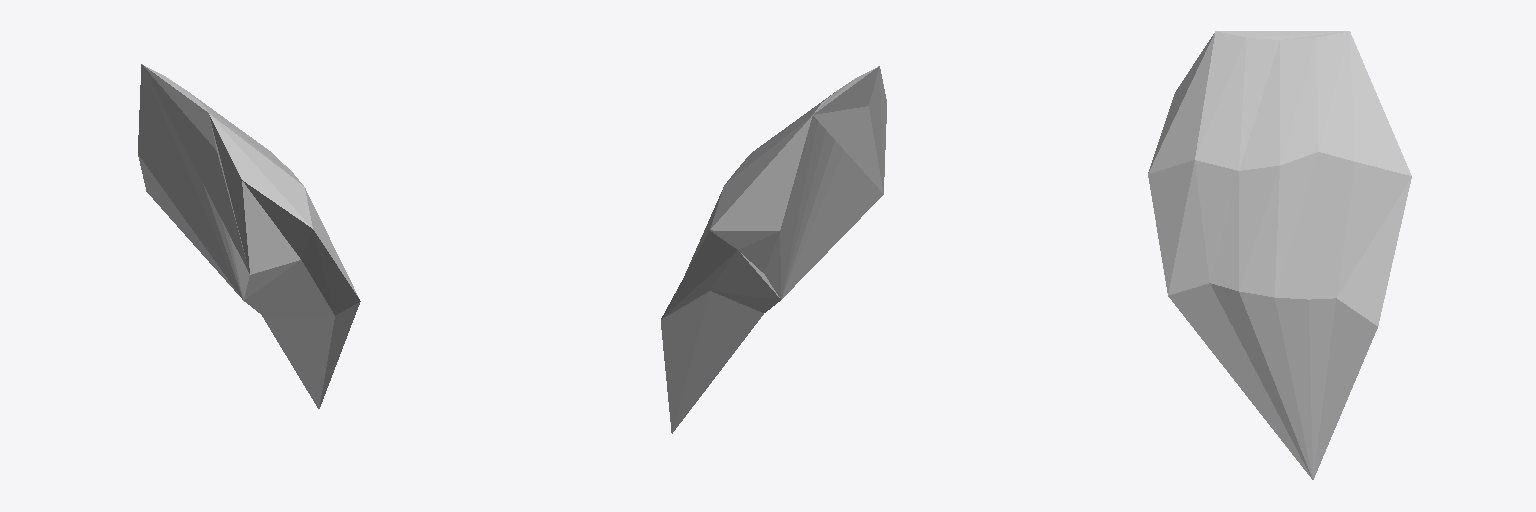
The model's file is bras.obj.
3 views of the same model, side by side, from view 1: azimuth 30°, elevation 25°; view 2: azimuth 150°, elevation 25°; view 3: azimuth 270°, elevation 25° (orthographic).
Visible parts, largest first — view 1: Object_7.001; view 2: Object_7.001; view 3: Object_7.001.
Part boxes in pixels (x1,y1,x2,y2): Object_7.001: (138,64,360,408); Object_7.001: (661,66,886,433); Object_7.001: (1148,31,1411,479).
Bounding box in the file's own units: 0.6076 × 1.35 × 0.8722.